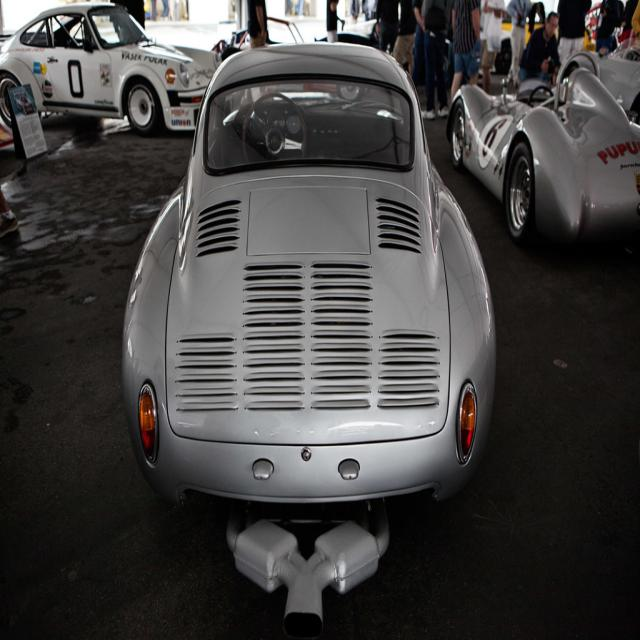car: (122, 27, 498, 548)
